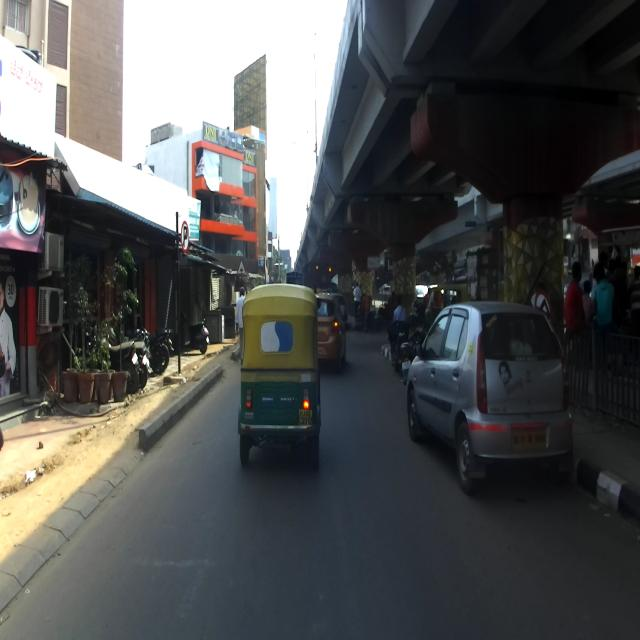auto ahead at: (240, 285, 320, 468)
car ahead at: (407, 301, 577, 499)
